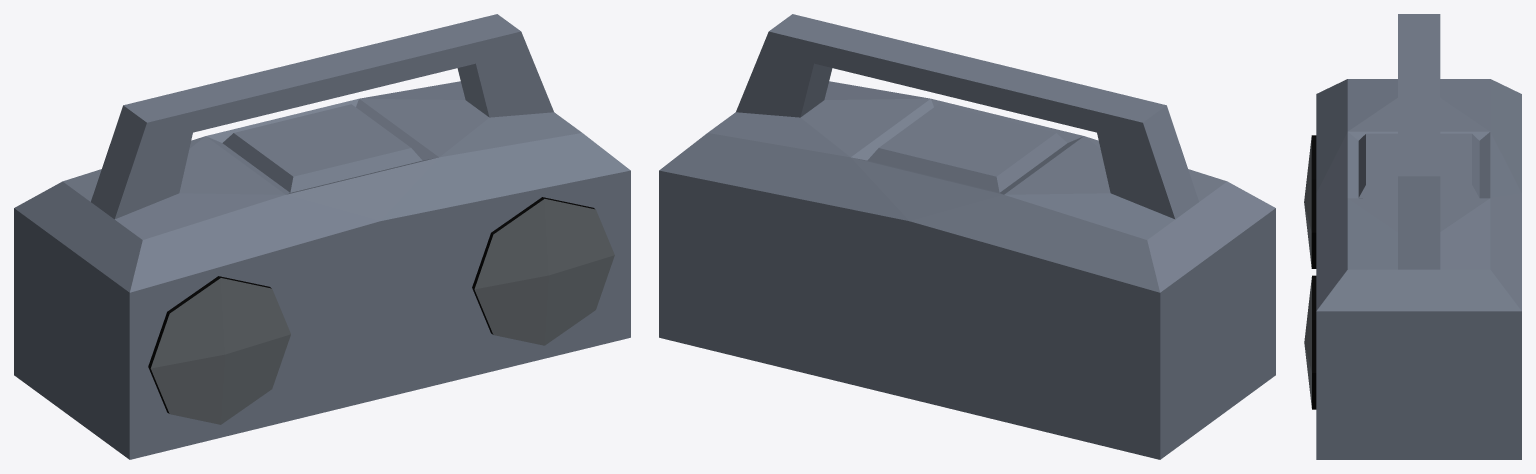
Rendered from radio.fbx.
3 views of the same model, side by side, from view 1: azimuth 30°, elevation 25°; view 2: azimuth 150°, elevation 25°; view 3: azimuth 270°, elevation 25° (orthographic). The views are drawn at different scales.
Parts seen in each view (by area): view 1: boombox, leftRepro, rightRepro; view 2: boombox; view 3: boombox, leftRepro, rightRepro.
Boxes of the visible parts, bbox=[...] form: boombox: bbox=[14, 14, 630, 459]; leftRepro: bbox=[148, 276, 290, 424]; rightRepro: bbox=[472, 197, 614, 345]; boombox: bbox=[659, 14, 1275, 459]; boombox: bbox=[1316, 14, 1521, 459]; leftRepro: bbox=[1304, 135, 1316, 268]; rightRepro: bbox=[1304, 275, 1316, 409].
Bounding box in the file's own units: 0.56 × 0.3077 × 0.2372.
